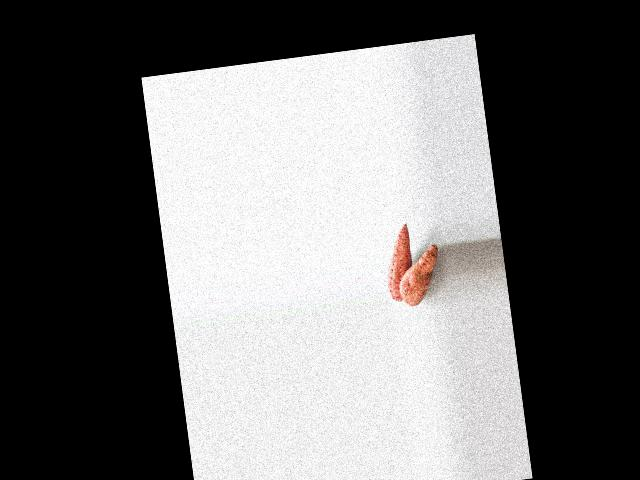sweet_potato: (381, 228, 417, 302)
